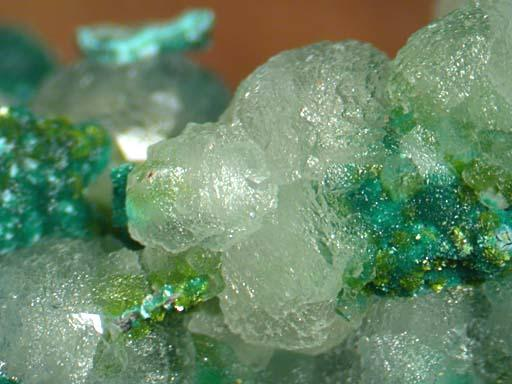calcite: (127, 40, 390, 354), (392, 4, 512, 182), (0, 242, 96, 383)
